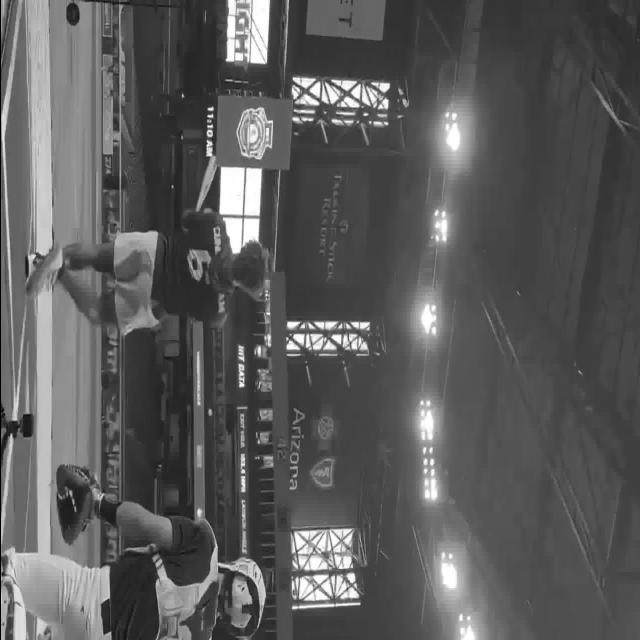bat: (192, 154, 218, 212)
shoe: (56, 463, 104, 545), (25, 248, 64, 296), (25, 251, 45, 279)
